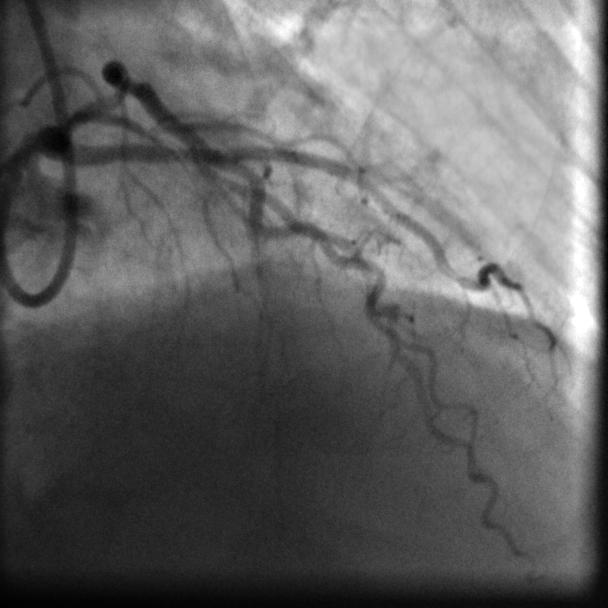Stenosis: (116, 63, 144, 102)
